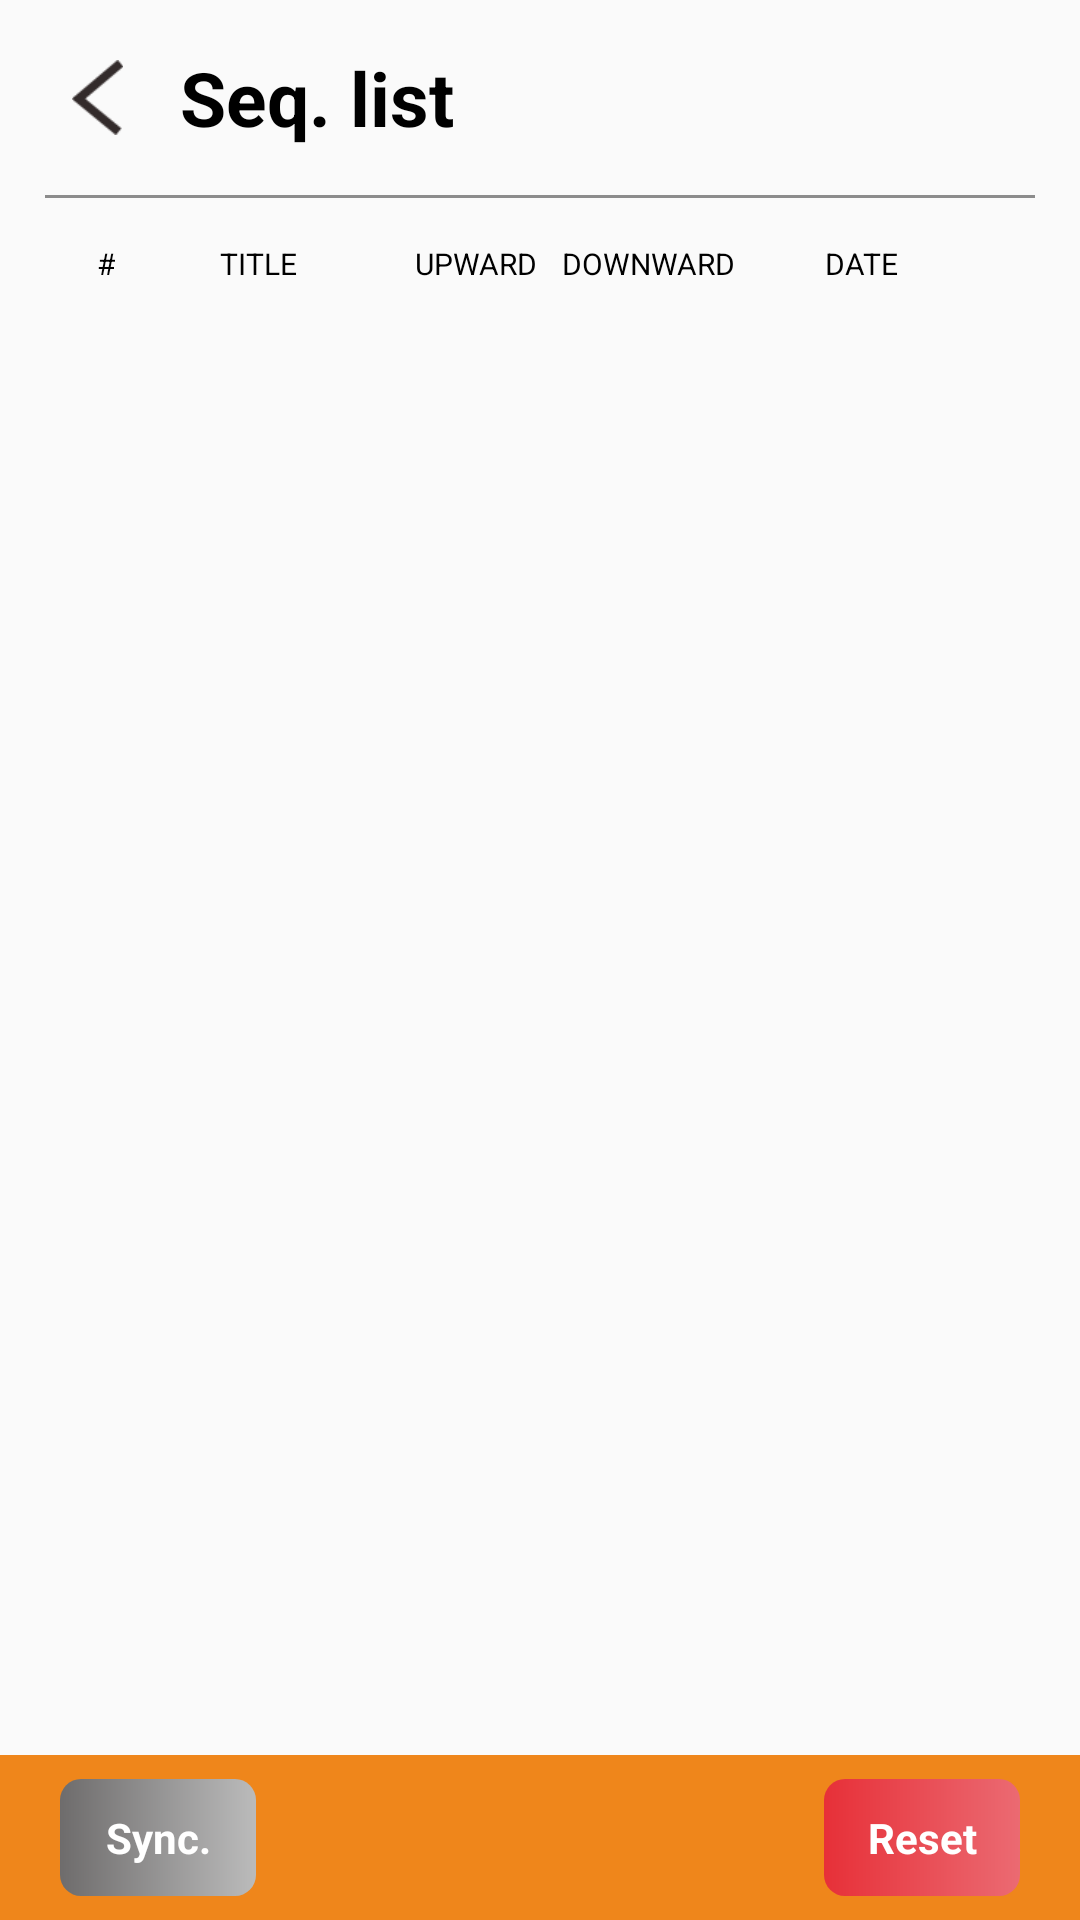

Where to tap for icons on this 1080 x 1920 app screen, as (x,y):
back: (97,97)
